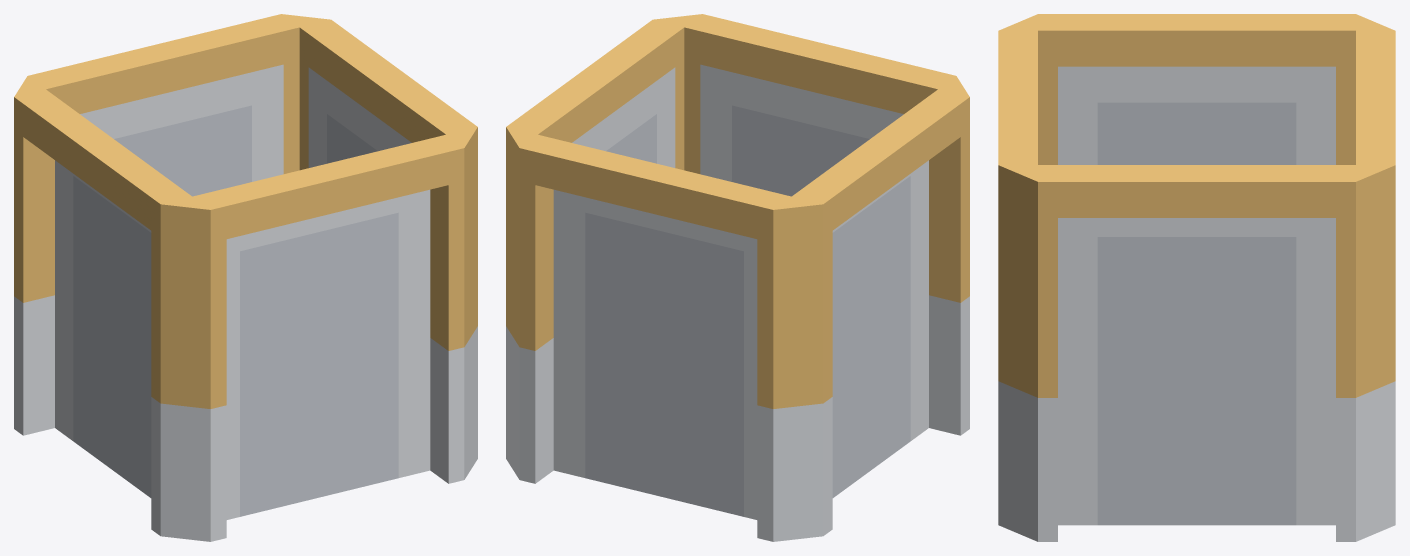
The model's file is structure_closed.gltf.
3 views of the same model, side by side, from view 1: azimuth 30°, elevation 25°; view 2: azimuth 150°, elevation 25°; view 3: azimuth 270°, elevation 25° (orthographic). The views are drawn at different scales.
Parts seen in each view (by area): view 1: structure_closed; view 2: structure_closed; view 3: structure_closed.
Part boxes in pixels (bbox=[...]): structure_closed: bbox=[14, 14, 477, 541]; structure_closed: bbox=[506, 14, 969, 541]; structure_closed: bbox=[998, 14, 1395, 541].
Bounding box in the file's own units: 1 × 1 × 1.
